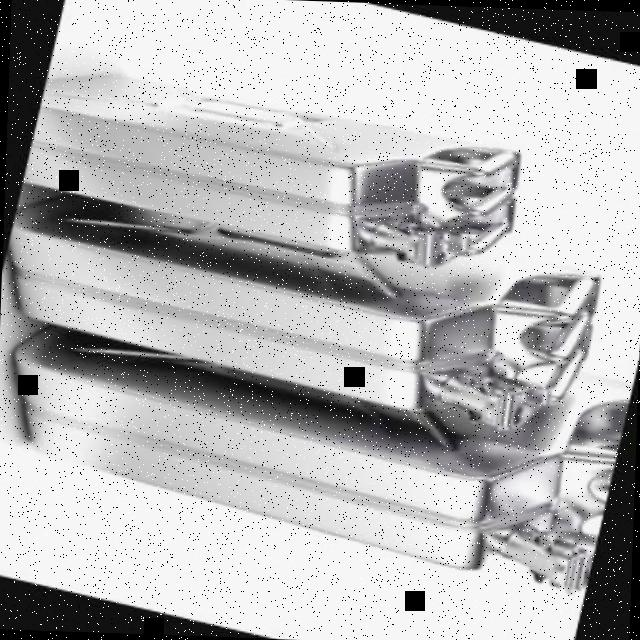chemical_plastic_gallon: (21, 41, 542, 296)
